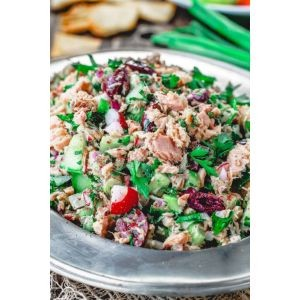tuna_brain food: (55, 63, 231, 235)
